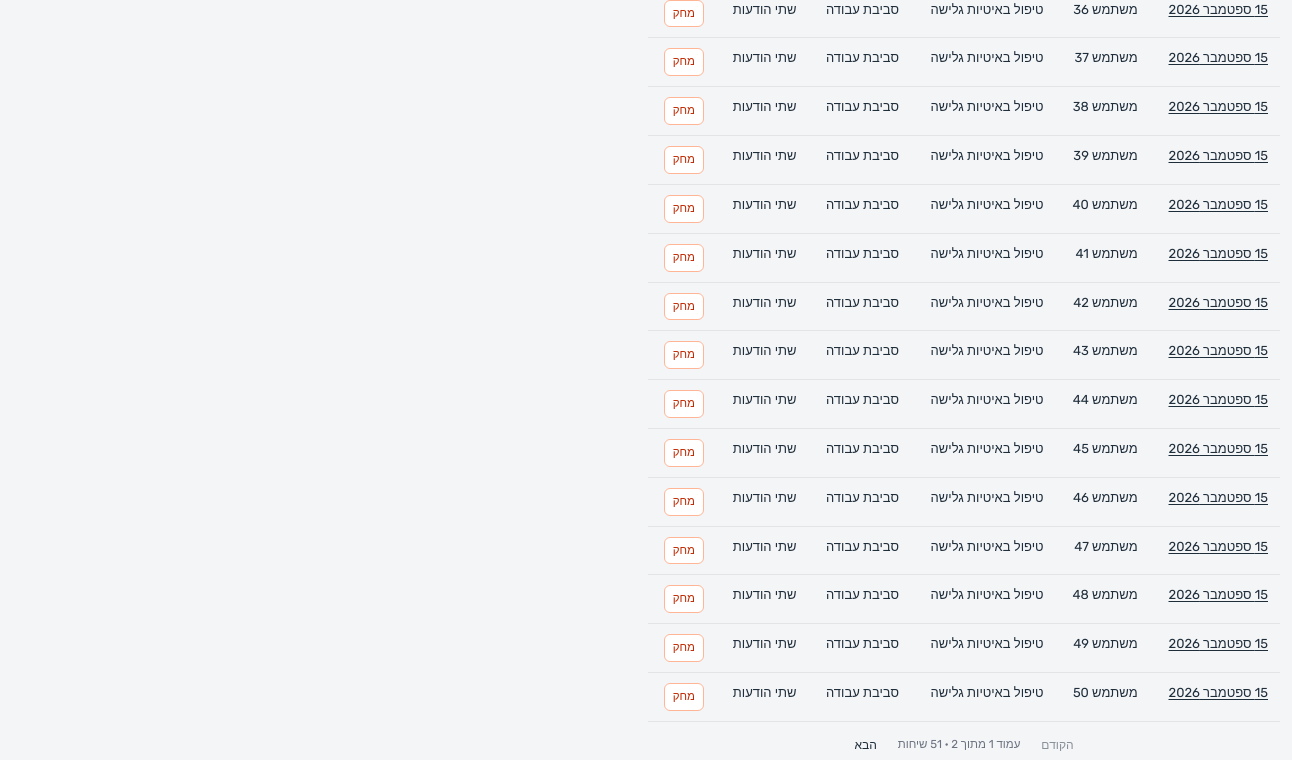
Test: ConversationsTab › wave Y review: deleting the last row of the last page goes back to the last real page
The width and height of the screenshot is (1292, 760).
(page scrolled)
Click the button "הבא": (866, 745) [843,730,888,759]
(page scrolled)
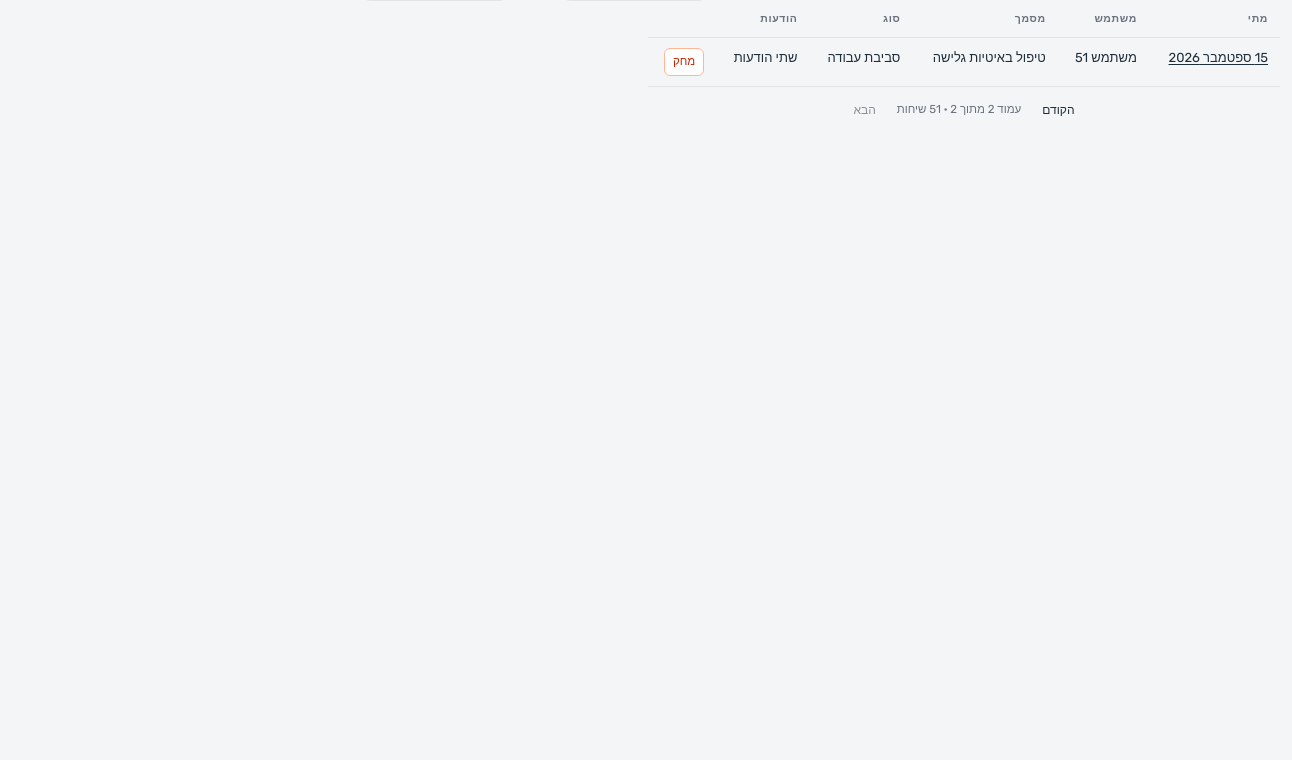
Expected: the navigation bar named "דפדוף בשיחות" shows "עמוד 2 מתוך 2", [842,95,1086,126]
Click the button "מחק": (684, 62) [664,48,704,76]
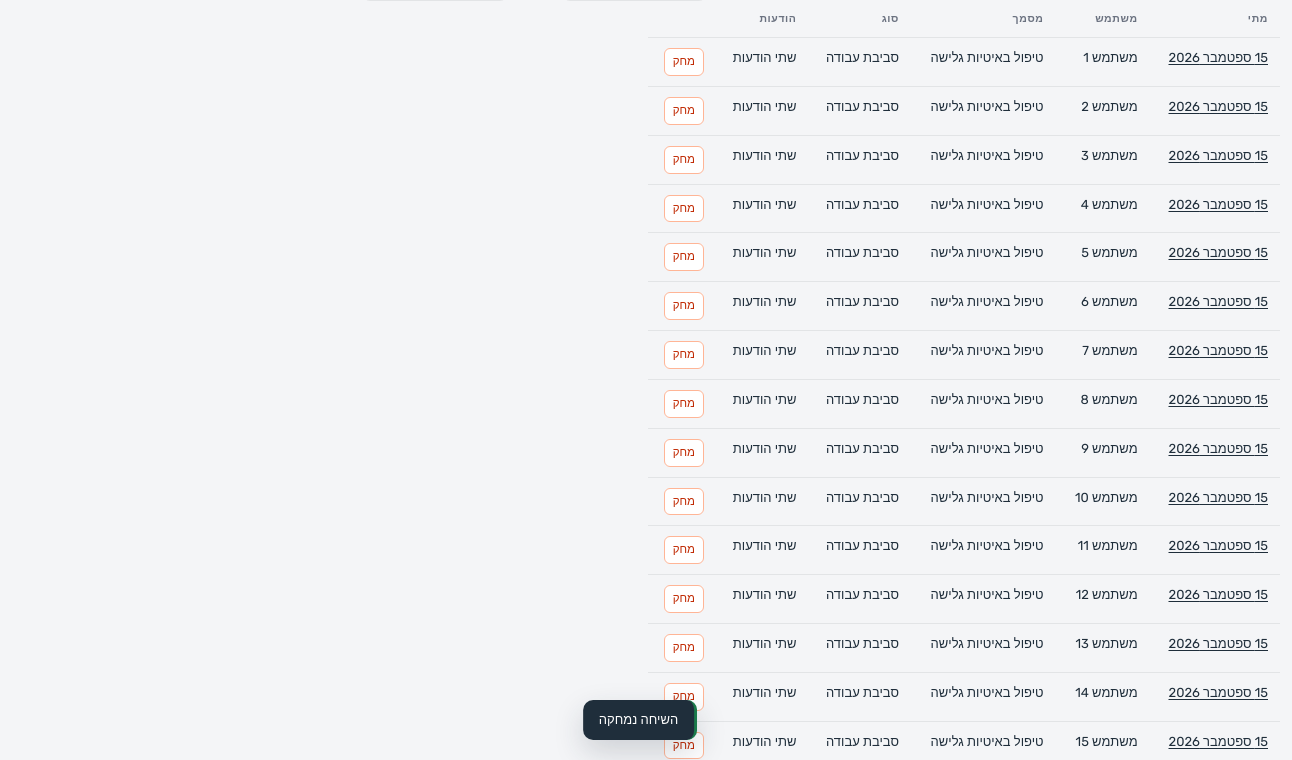
Expected: the text "משתמש 1" is shown, [1056,38,1150,86]
